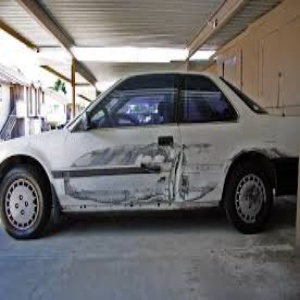door_scratch: (61, 145, 221, 205)
